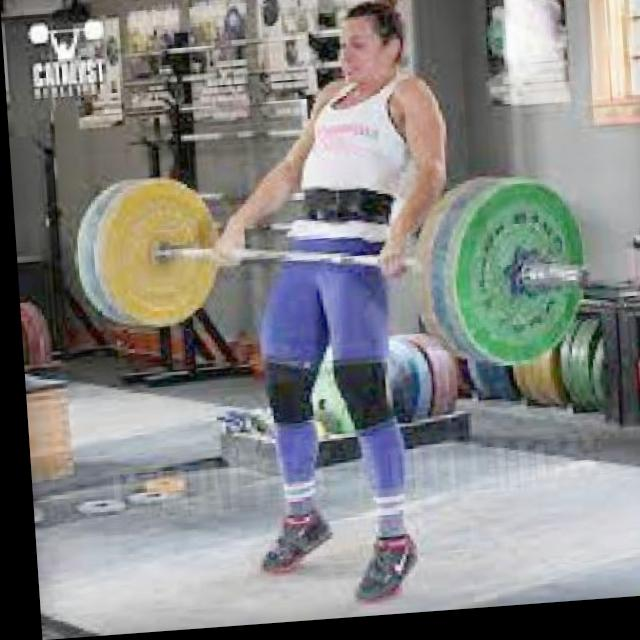barbell: (440, 187, 597, 382)
